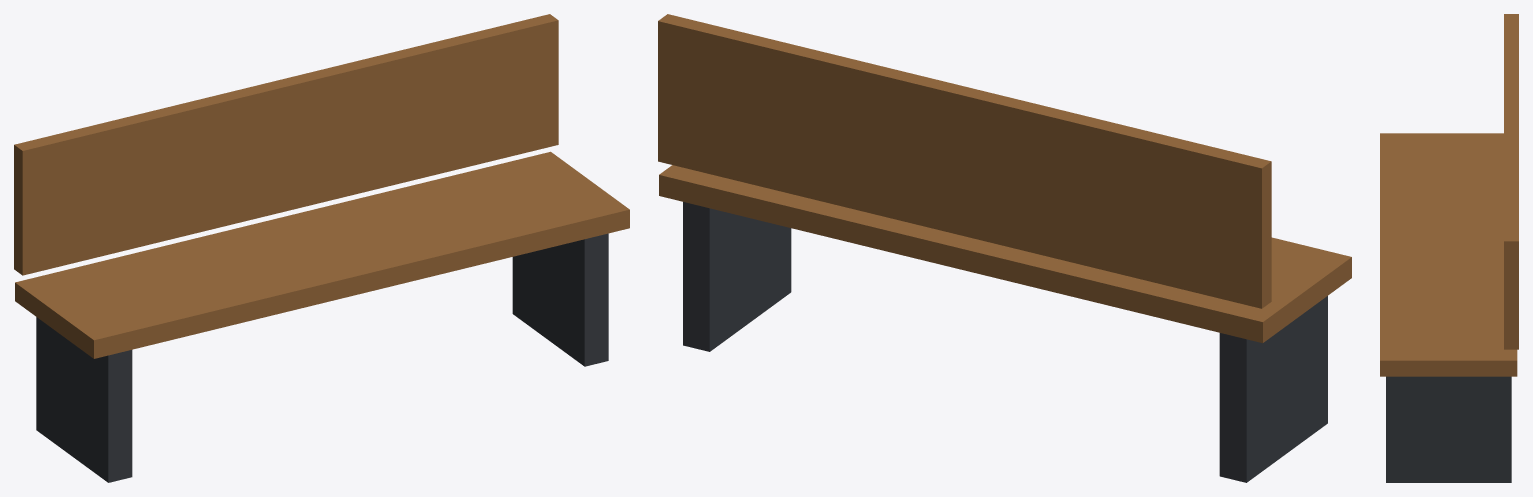
File: bench.glb
The picture shows the model from 3 angles, left to right: view 1: azimuth 30°, elevation 25°; view 2: azimuth 150°, elevation 25°; view 3: azimuth 270°, elevation 25°; orthographic projection. The views are drawn at different scales.
Parts seen in each view (by area): view 1: backrest, seat, leg-l, leg-r; view 2: backrest, seat, leg-l, leg-r; view 3: seat, leg-r, backrest.
Boxes of the visible parts, x1=… form: backrest: x1=14, y1=14, x2=558, y2=275; seat: x1=15, y1=151, x2=629, y2=358; leg-l: x1=36, y1=317, x2=132, y2=482; leg-r: x1=512, y1=233, x2=608, y2=366; backrest: x1=658, y1=14, x2=1271, y2=308; seat: x1=659, y1=165, x2=1351, y2=343; leg-l: x1=1219, y1=296, x2=1327, y2=482; leg-r: x1=683, y1=202, x2=791, y2=351; seat: x1=1380, y1=133, x2=1517, y2=376; leg-r: x1=1386, y1=376, x2=1511, y2=482; backrest: x1=1504, y1=14, x2=1518, y2=349.
Size of the model in its own units: 1.8 by 0.92 by 0.465.
